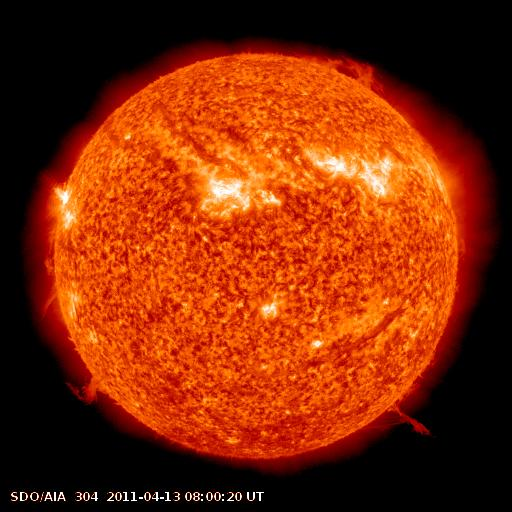prominence: (290, 38, 393, 102), (29, 225, 74, 328), (377, 393, 439, 445), (58, 370, 119, 415)
